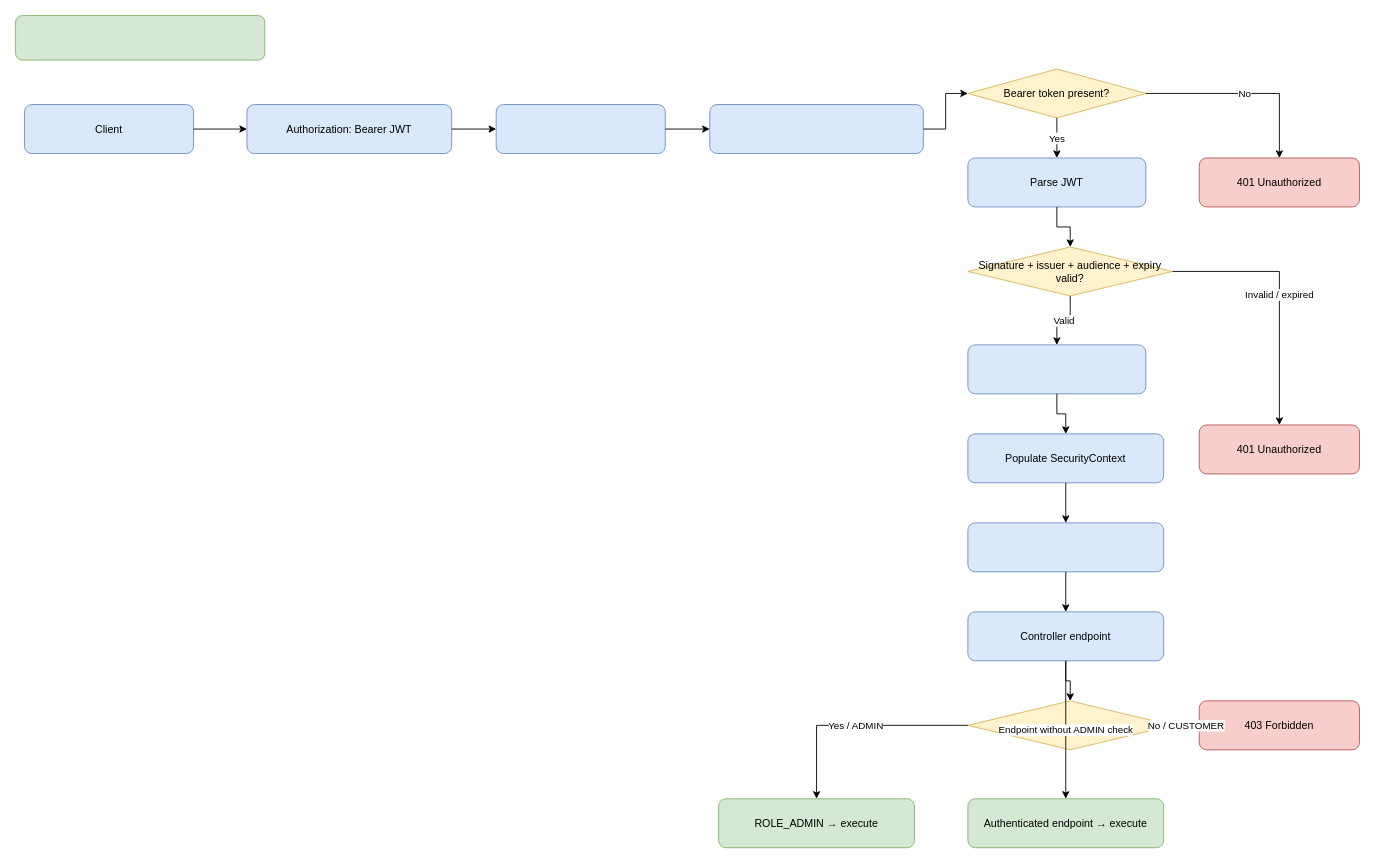
This 1375x863 diagram has some shape labels left out. Here are the shapes that lost their labels. From the top down, the box of each, then its label:
(15, 15, 265, 60): JWT Authentication & Authorization
(495, 104, 665, 154): RateLimitFilter
(709, 104, 923, 154): JwtAuthenticationFilter
(967, 344, 1146, 394): Find User by email
(967, 522, 1164, 572): UserRateLimitFilter
(967, 700, 1173, 750): @PreAuthorize ADMIN?
